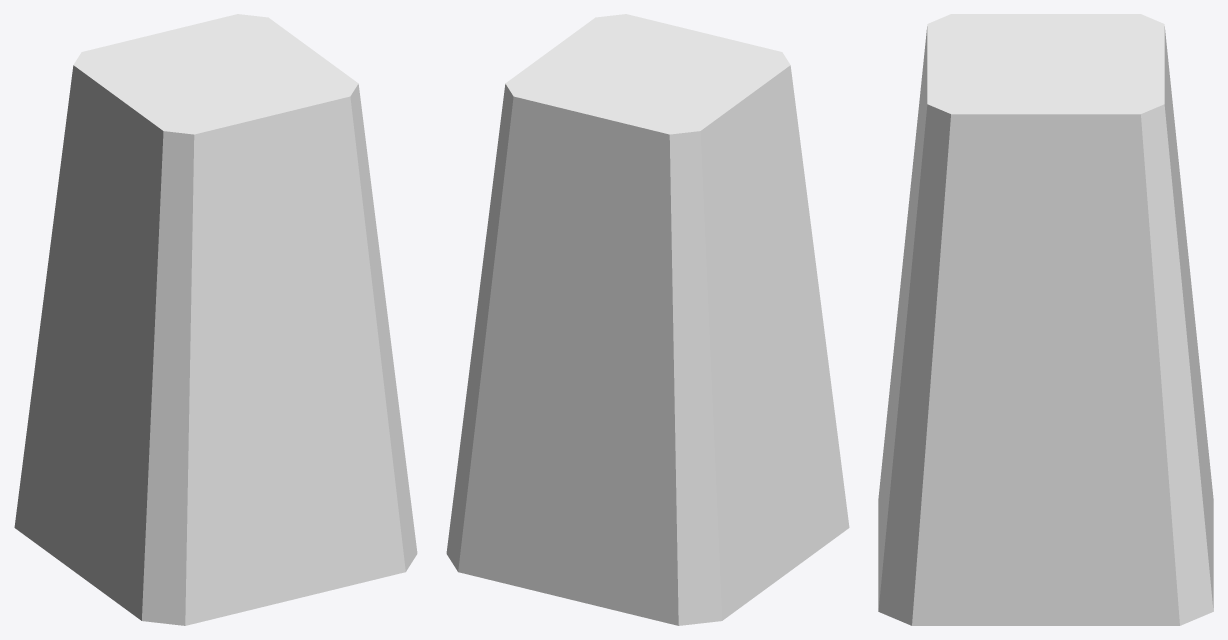
The model's file is Stone-3.fbx.
3 renders of one model, left to right at view 1: azimuth 30°, elevation 25°; view 2: azimuth 150°, elevation 25°; view 3: azimuth 270°, elevation 25°, orthographic. The views are drawn at different scales.
Visible parts, largest first — view 1: pCube4; view 2: pCube4; view 3: pCube4.
Part boxes in pixels (x1=…): pCube4: x1=14, y1=14, x2=417, y2=625; pCube4: x1=446, y1=14, x2=849, y2=625; pCube4: x1=878, y1=14, x2=1213, y2=625.
Bounding box in the file's own units: 0.4125 × 0.6672 × 0.4125.
